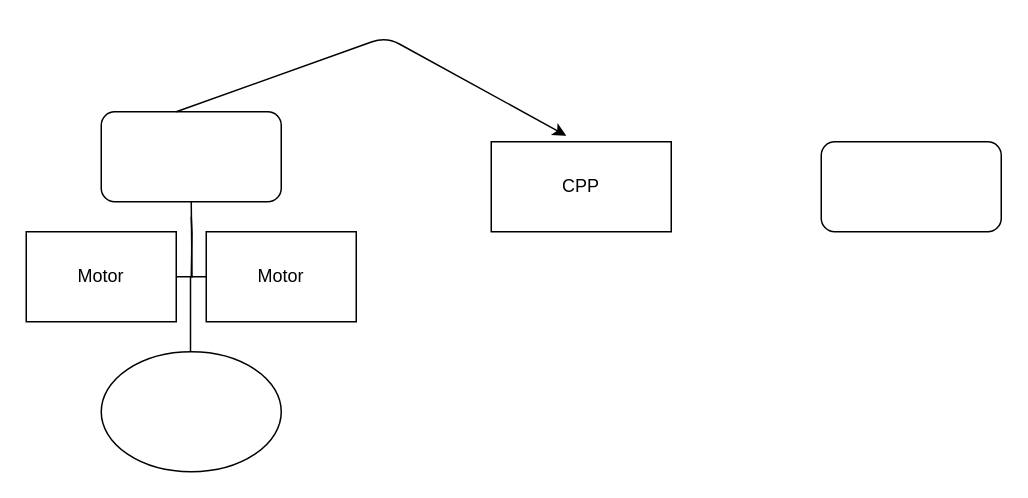
Image size: 1028x498. Some labels were removed from this diagram. Each missing label, with the centre of its shape:
"GUI" goes at pixel 190 156.
"Satellite" goes at pixel 910 186.
